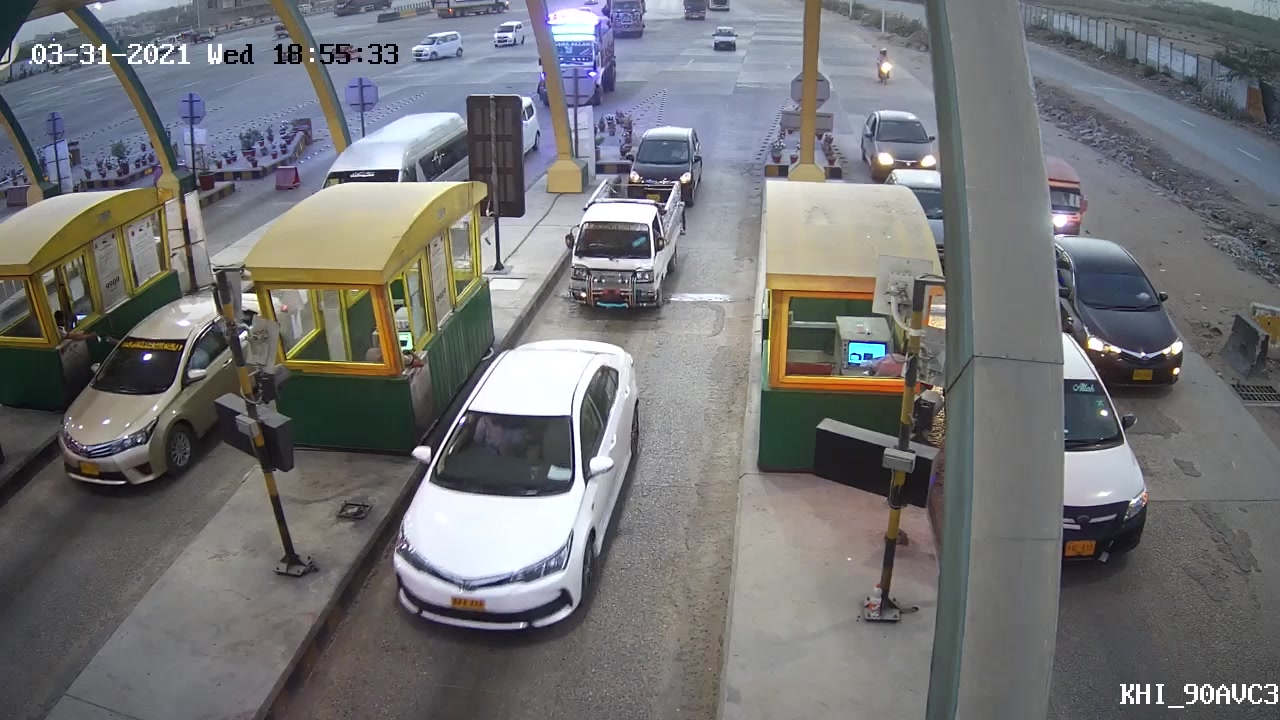F1: (379, 339, 640, 638), (561, 176, 690, 314)
